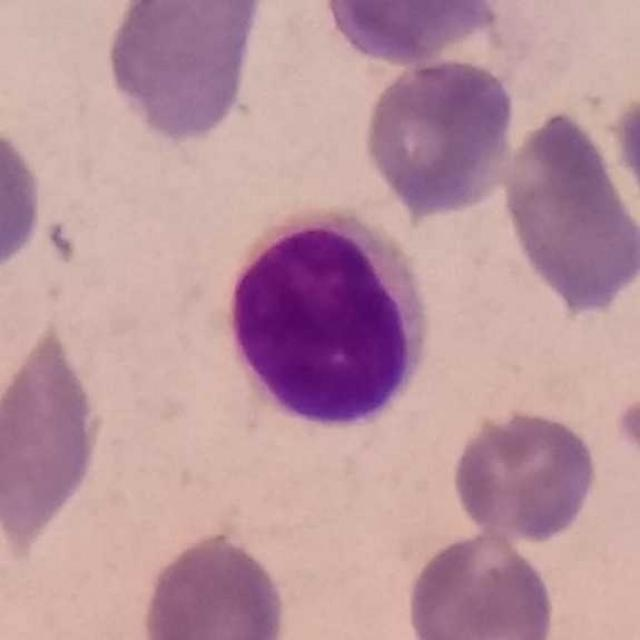Lymphocyte: (217, 208, 436, 436)
Platelets: (611, 392, 638, 462)
RBC: (497, 103, 640, 319), (358, 53, 520, 217), (0, 312, 110, 544), (100, 0, 272, 147), (449, 406, 602, 546), (403, 528, 561, 640), (135, 527, 291, 640), (317, 0, 508, 68), (0, 116, 48, 280)
